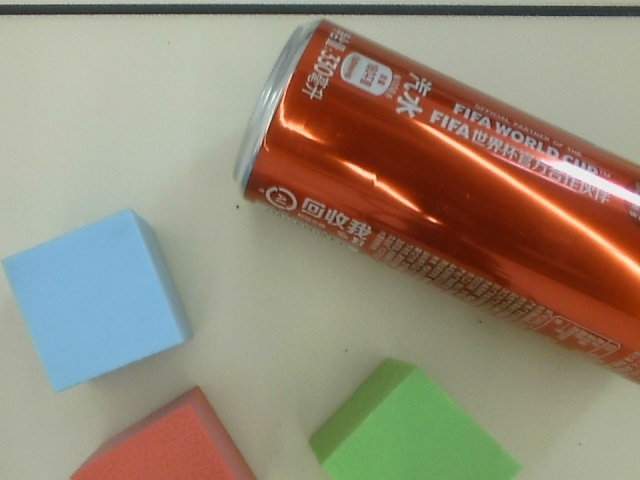bluecube: (1, 204, 209, 394)
cola: (229, 21, 640, 392)
greencube: (305, 357, 525, 480)
redcube: (65, 382, 272, 480)
